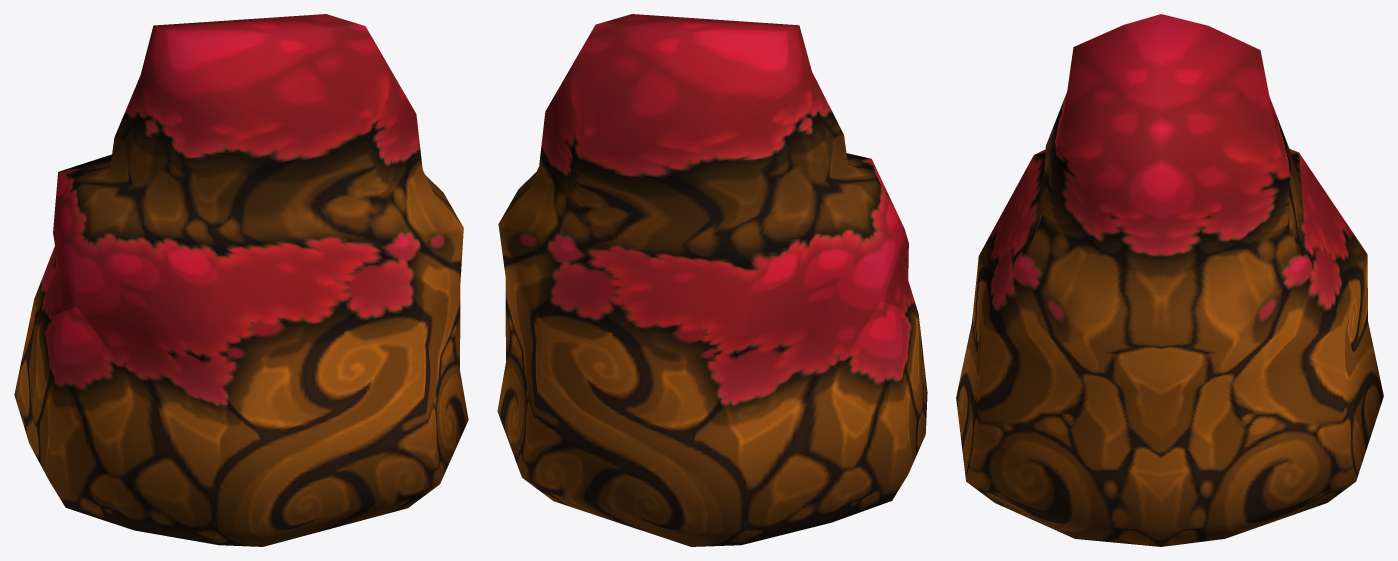
The model's file is Red_Rock_01.FBX.
The picture shows the model from 3 angles, left to right: view 1: azimuth 30°, elevation 25°; view 2: azimuth 150°, elevation 25°; view 3: azimuth 270°, elevation 25°; orthographic projection. The views are drawn at different scales.
Parts seen in each view (by area): view 1: Red_Rock_01; view 2: Red_Rock_01; view 3: Red_Rock_01.
Part boxes in pixels (left/top/right/bottom): Red_Rock_01: left=14, top=14, right=468, bottom=546; Red_Rock_01: left=497, top=14, right=927, bottom=546; Red_Rock_01: left=956, top=14, right=1383, bottom=546.
Size of the model in its own units: 280 by 297 by 272.
